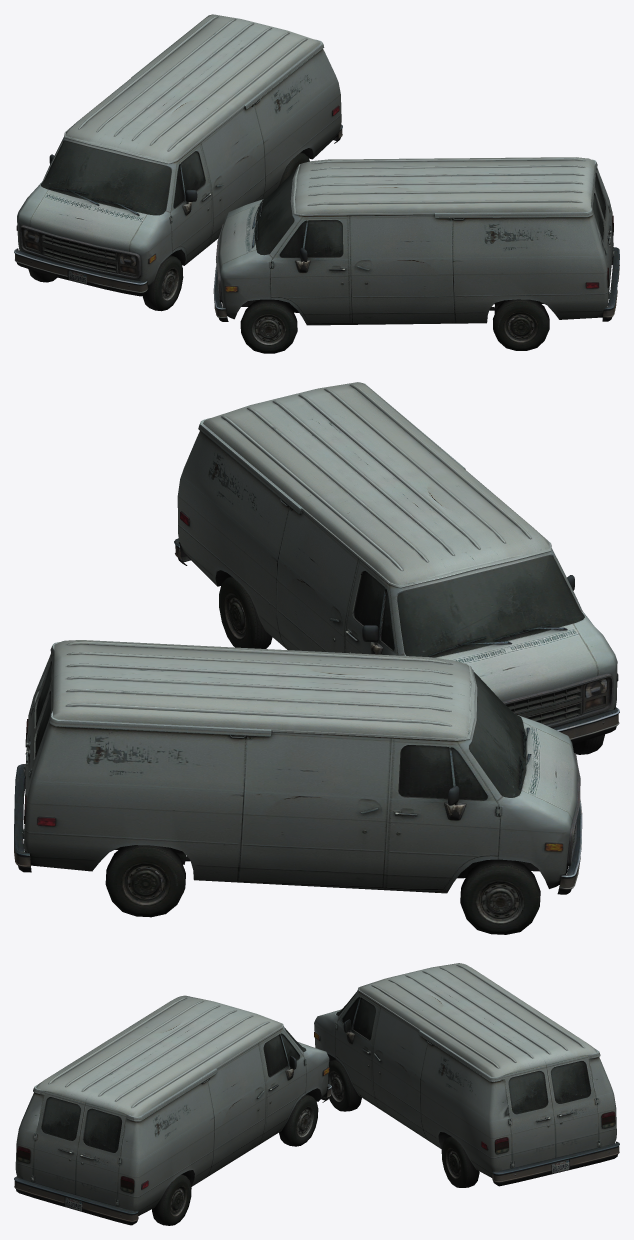
File: metal.obj
3 views of the same model, one above another, from view 1: azimuth 30°, elevation 25°; view 2: azimuth 150°, elevation 25°; view 3: azimuth 270°, elevation 25° (orthographic). The views are drawn at different scales.
Visible parts, largest first — view 1: metal_models/props/cs_militia/van.002; view 2: metal_models/props/cs_militia/van.002; view 3: metal_models/props/cs_militia/van.002.
Part boxes in pixels (<box>): metal_models/props/cs_militia/van.002: <box>14,14,619,353</box>; metal_models/props/cs_militia/van.002: <box>14,382,619,934</box>; metal_models/props/cs_militia/van.002: <box>14,963,619,1225</box>.
Bounding box in the file's own units: 4.38 × 1.49 × 5.48.
1 material, 1 textured.
